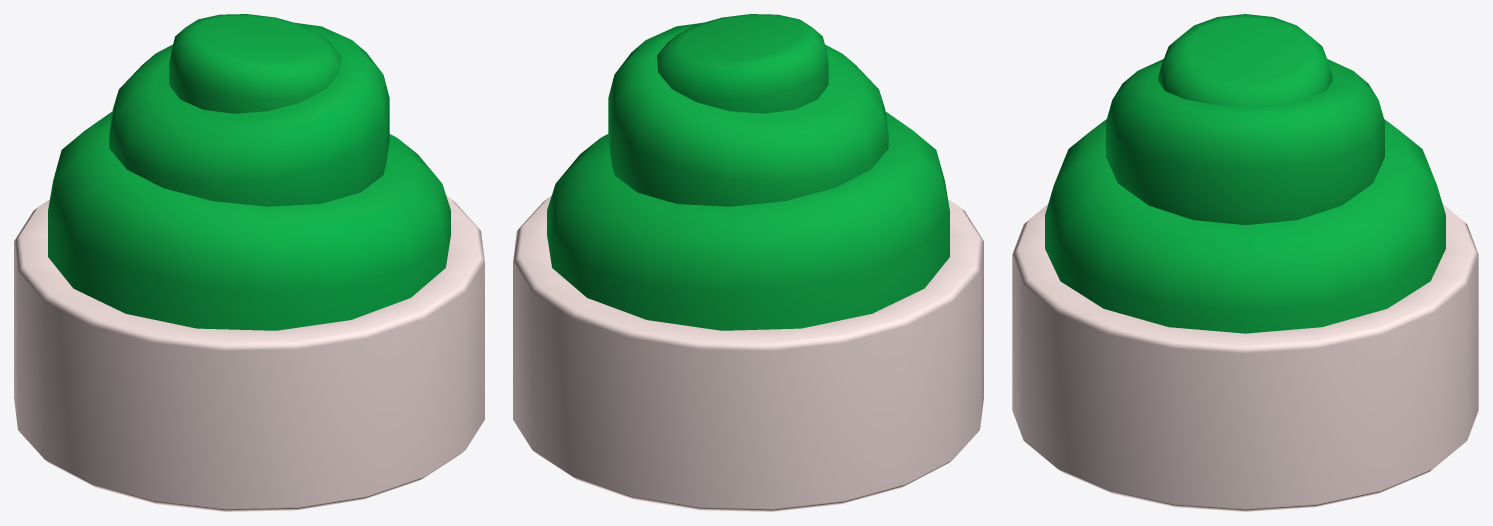
Rendered from City_7_Bush_1.glb.
3 views of the same model, side by side, from view 1: azimuth 30°, elevation 25°; view 2: azimuth 150°, elevation 25°; view 3: azimuth 270°, elevation 25° (orthographic).
Parts seen in each view (by area): view 1: City_7_Bush_1; view 2: City_7_Bush_1; view 3: City_7_Bush_1.
Part boxes in pixels (x1,y1,x2,y2): City_7_Bush_1: (14, 14, 484, 511); City_7_Bush_1: (513, 14, 983, 511); City_7_Bush_1: (1012, 14, 1478, 511).
Bounding box in the file's own units: 1.61 × 1.44 × 1.61.
1 material, 1 textured.
